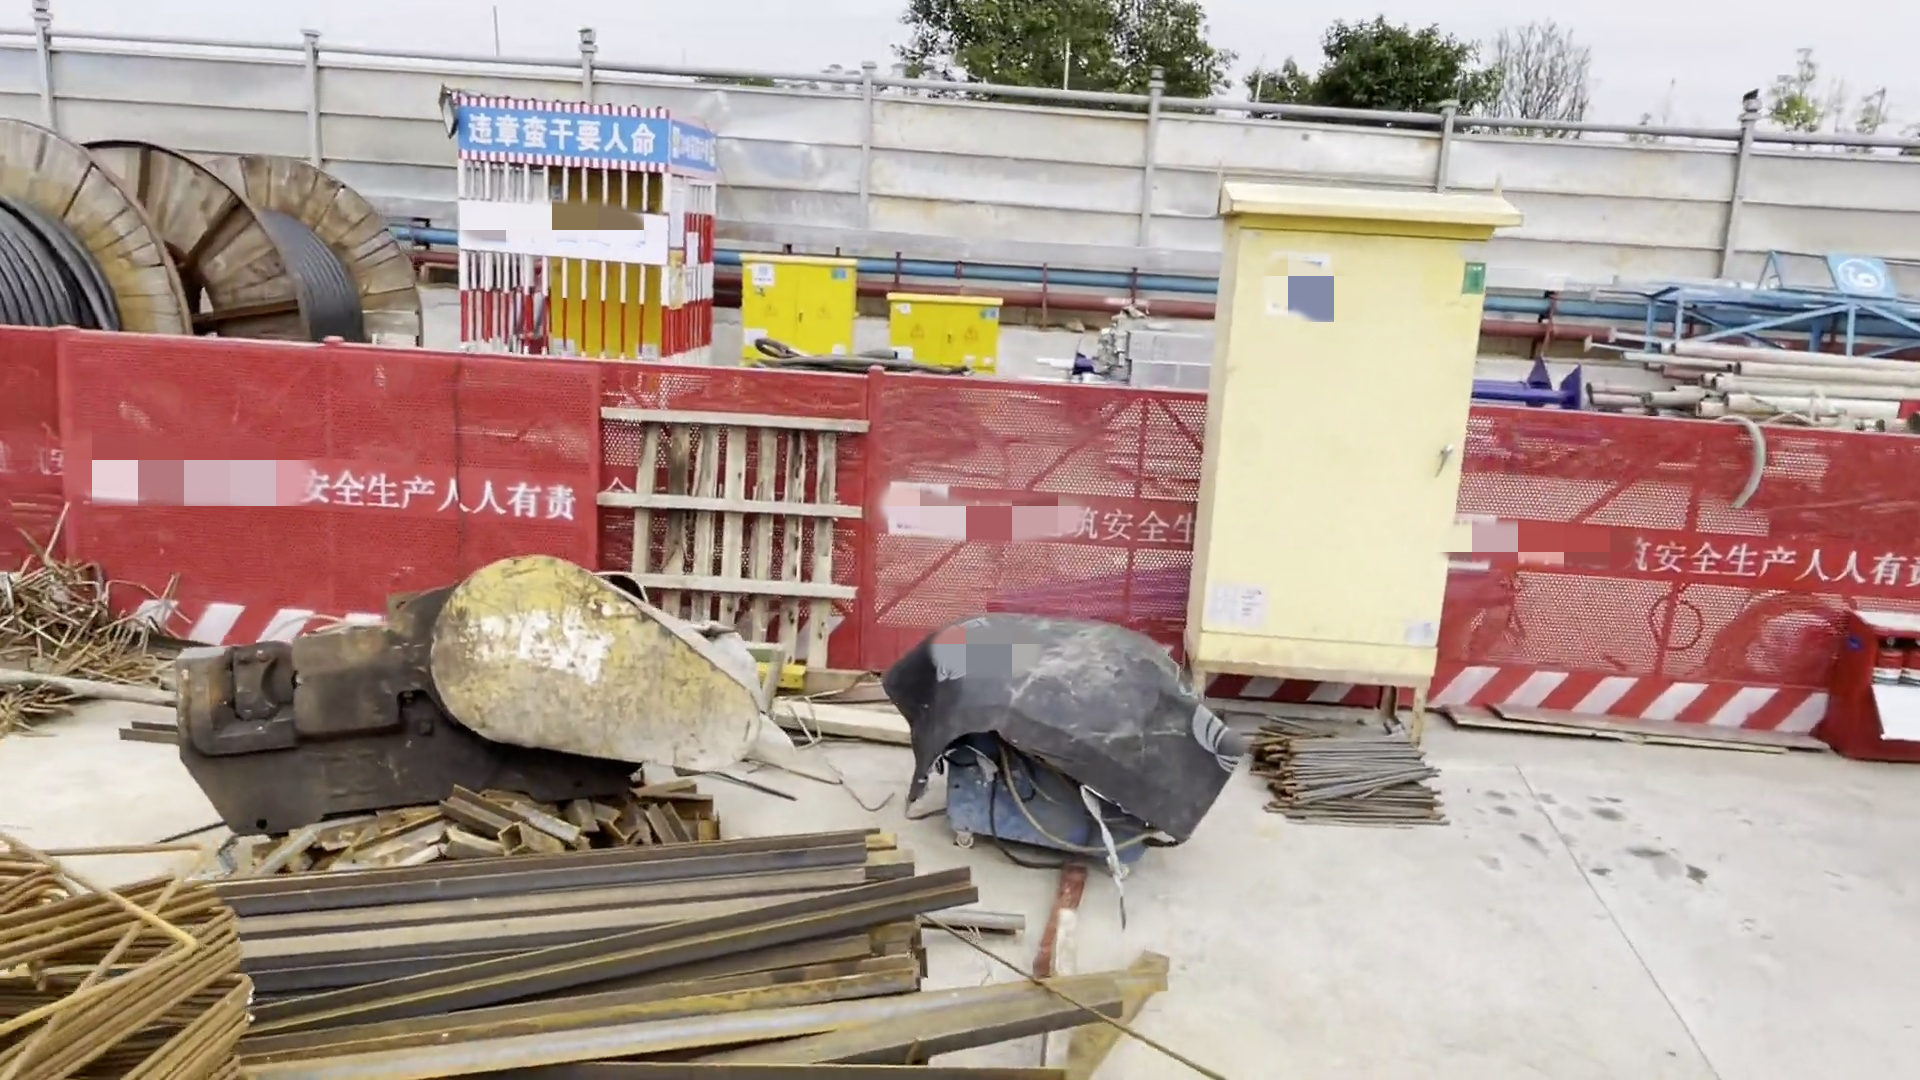ebox: (1185, 179, 1484, 732), (545, 169, 657, 361), (738, 239, 862, 372), (881, 289, 994, 371)
fence: (9, 328, 599, 626), (607, 357, 1192, 644), (1466, 411, 1920, 735)
rebar: (1267, 716, 1433, 828)
slogan: (450, 98, 671, 179)
